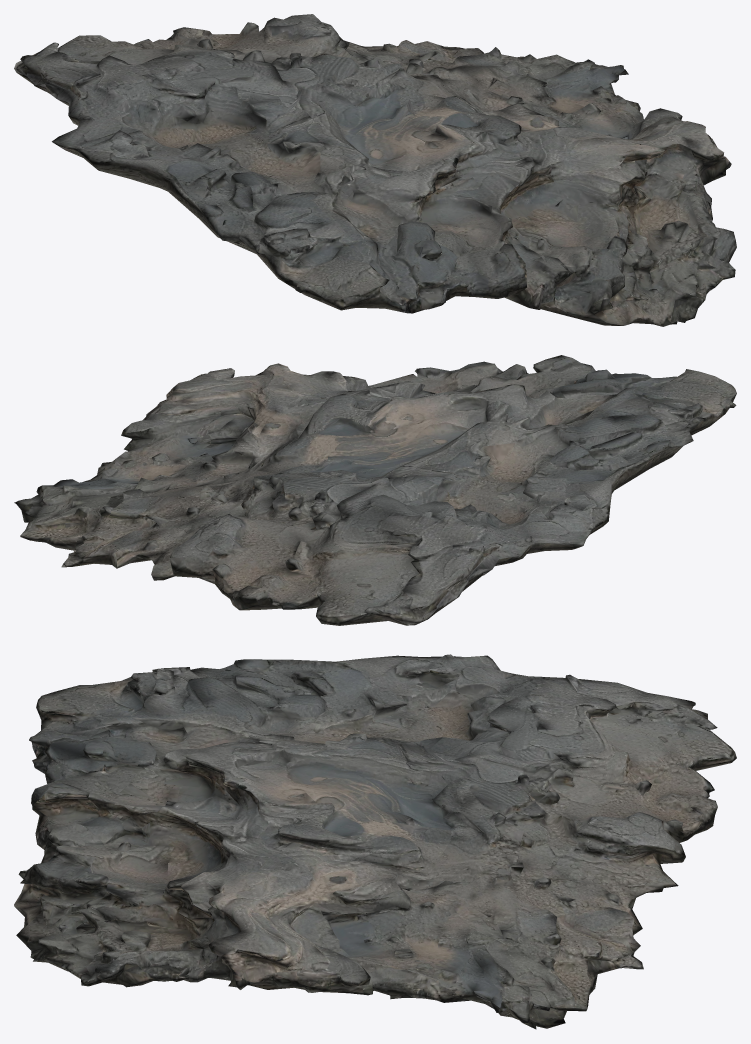
The model's file is gravel-surface.glb.
The picture shows the model from 3 angles, top to bottom: view 1: azimuth 30°, elevation 25°; view 2: azimuth 150°, elevation 25°; view 3: azimuth 270°, elevation 25°; orthographic projection. The views are drawn at different scales.
Parts seen in each view (by area): view 1: Landscape asset / gravel-surface; view 2: Landscape asset / gravel-surface; view 3: Landscape asset / gravel-surface.
Part boxes in pixels (x1,y1,x2,y2): Landscape asset / gravel-surface: [14, 14, 736, 326]; Landscape asset / gravel-surface: [14, 355, 736, 625]; Landscape asset / gravel-surface: [14, 654, 736, 1029].
Bounding box in the file's own units: 0.9335 × 0.1964 × 1.
1 material, 1 textured.
